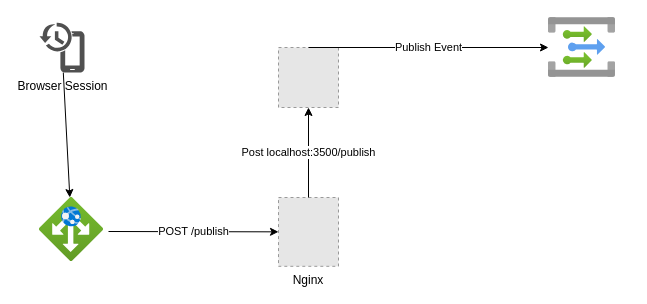
Some shapes in this 647 by 304 pixel diagram are drawn without their labels. Grey dashed boxes stand in for pictures. Here are the shapes that lost their labels. From the top down, the centre of each, then its label:
At (581,47): "Azure ServiceBus".
At (71,229): "Application Gateway".
